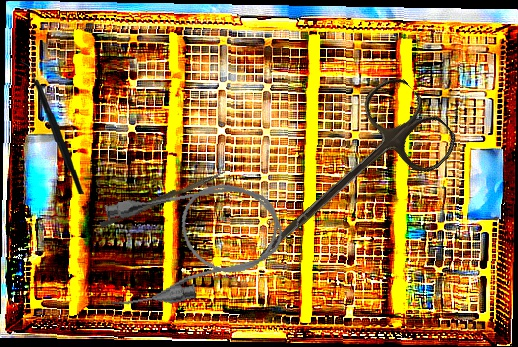Cannula: (91, 170, 293, 316)
Chopper: (18, 58, 85, 197)
Iris Scissors: (229, 68, 464, 298)
Pusher: (99, 165, 227, 232)
